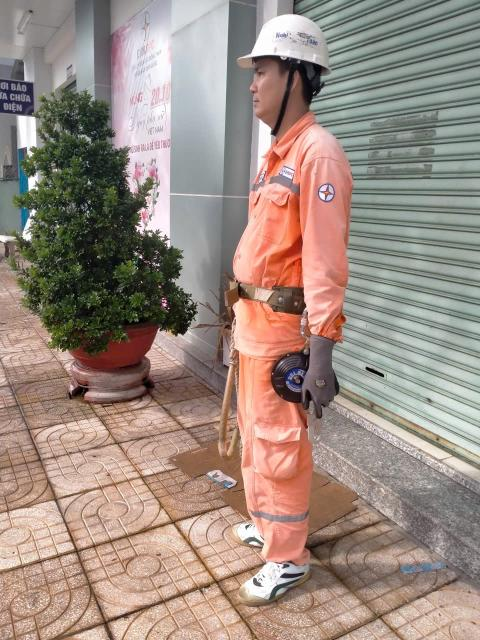gloves: (301, 327, 345, 419)
harness: (220, 252, 330, 322)
helmet: (233, 13, 332, 74)
shoes: (236, 546, 315, 611), (227, 507, 287, 549)
